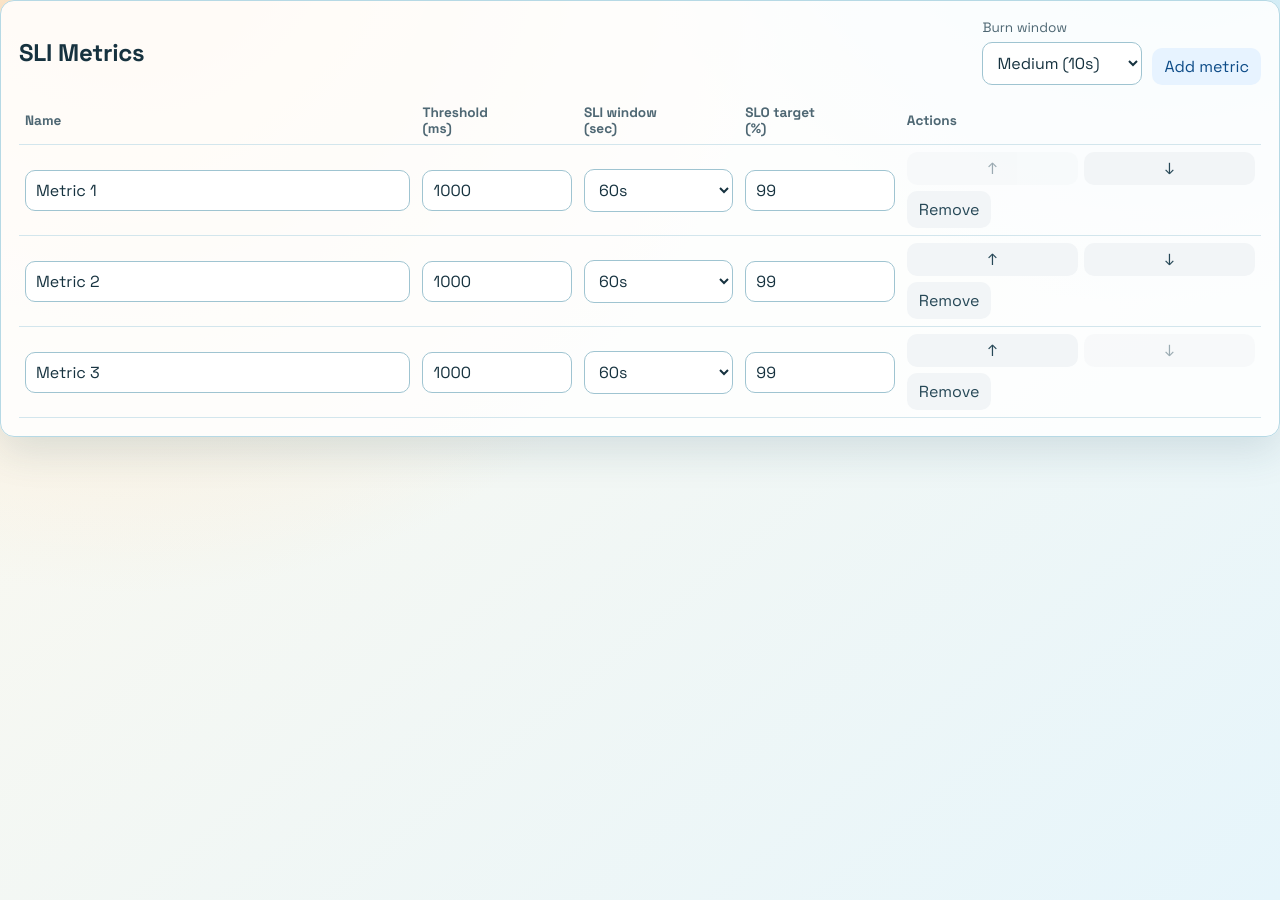
it: SliMetricsEditor › adds and removes metric rows
This screenshot has width=1280, height=900.
Expected: the number of fields named "Metric name" is 3, top-left (25, 170), bottom-right (410, 211); top-left (25, 261), bottom-right (410, 302); top-left (25, 352), bottom-right (410, 393)
Click the button "Add metric": {"x": 1207, "y": 66} top-left (1152, 48), bottom-right (1261, 85)
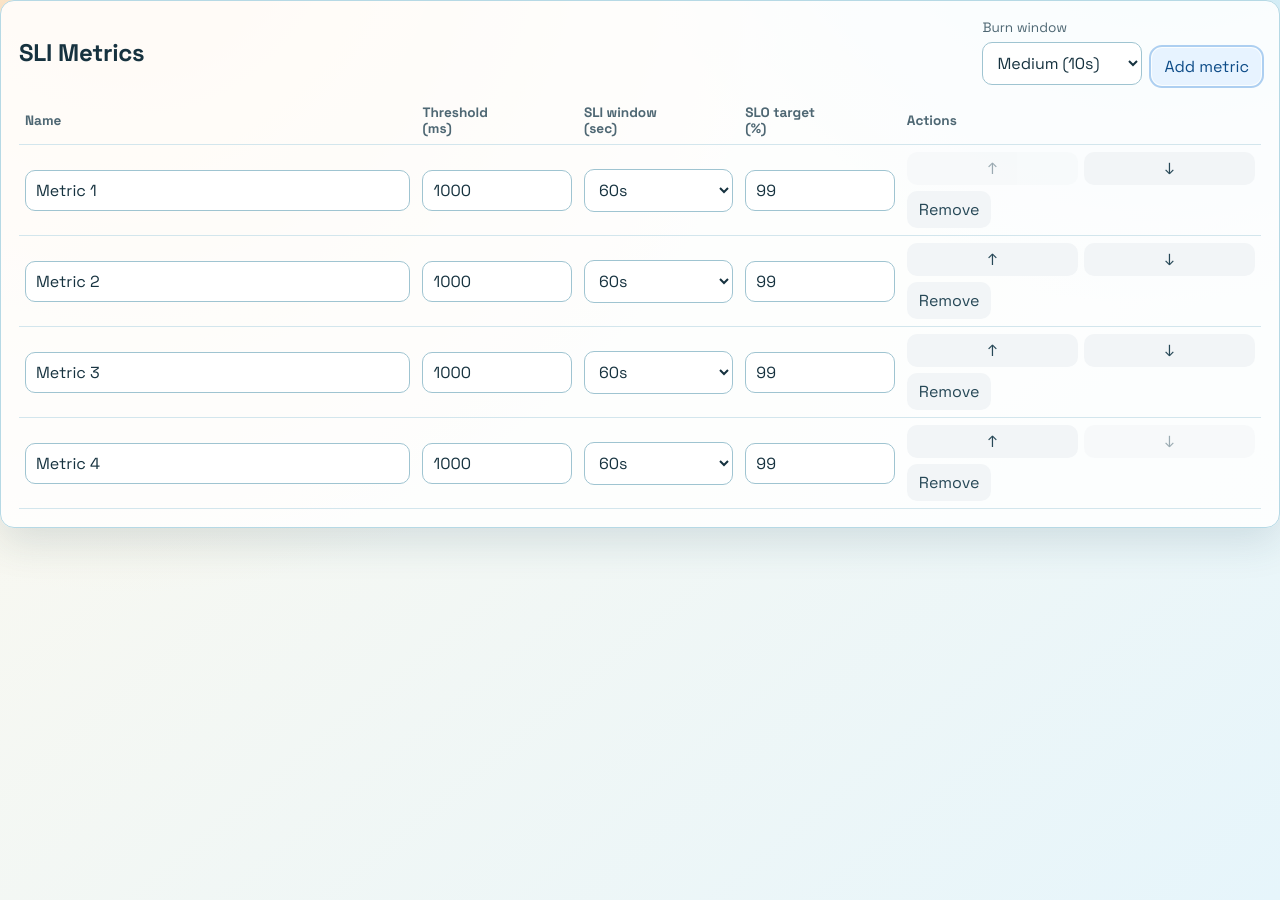
Expected: the number of fields named "Metric name" is 4, top-left (25, 170), bottom-right (410, 211); top-left (25, 261), bottom-right (410, 302); top-left (25, 352), bottom-right (410, 393); top-left (25, 443), bottom-right (410, 484)
Click the 1st button "Remove": {"x": 949, "y": 210} top-left (907, 191), bottom-right (992, 228)
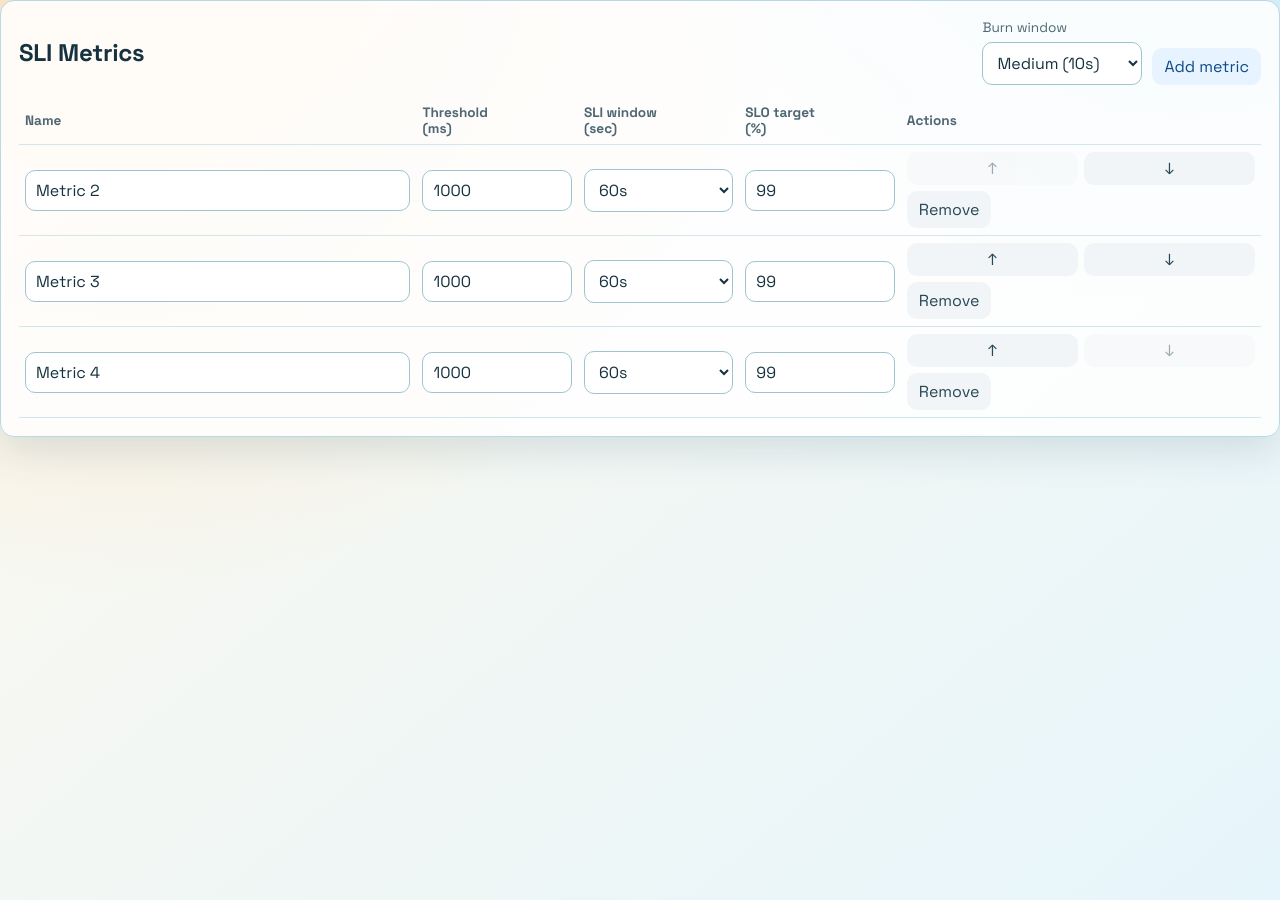
Expected: the number of fields named "Metric name" is 3, top-left (25, 170), bottom-right (410, 211); top-left (25, 261), bottom-right (410, 302); top-left (25, 352), bottom-right (410, 393)
